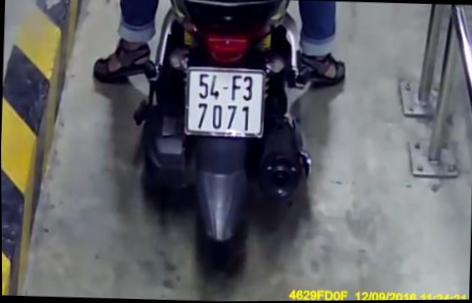LP: (183, 64, 267, 140)
